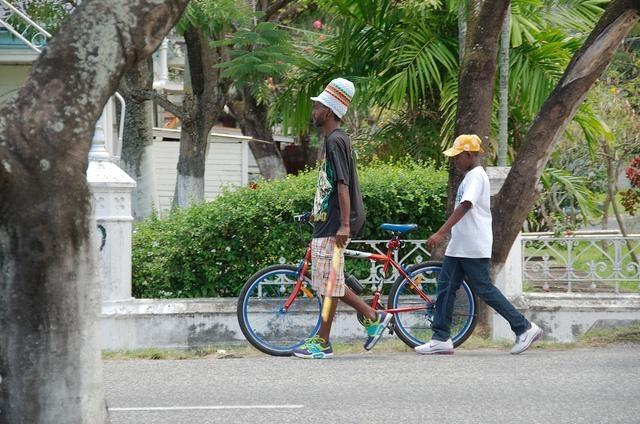bicycle: (237, 210, 478, 357)
